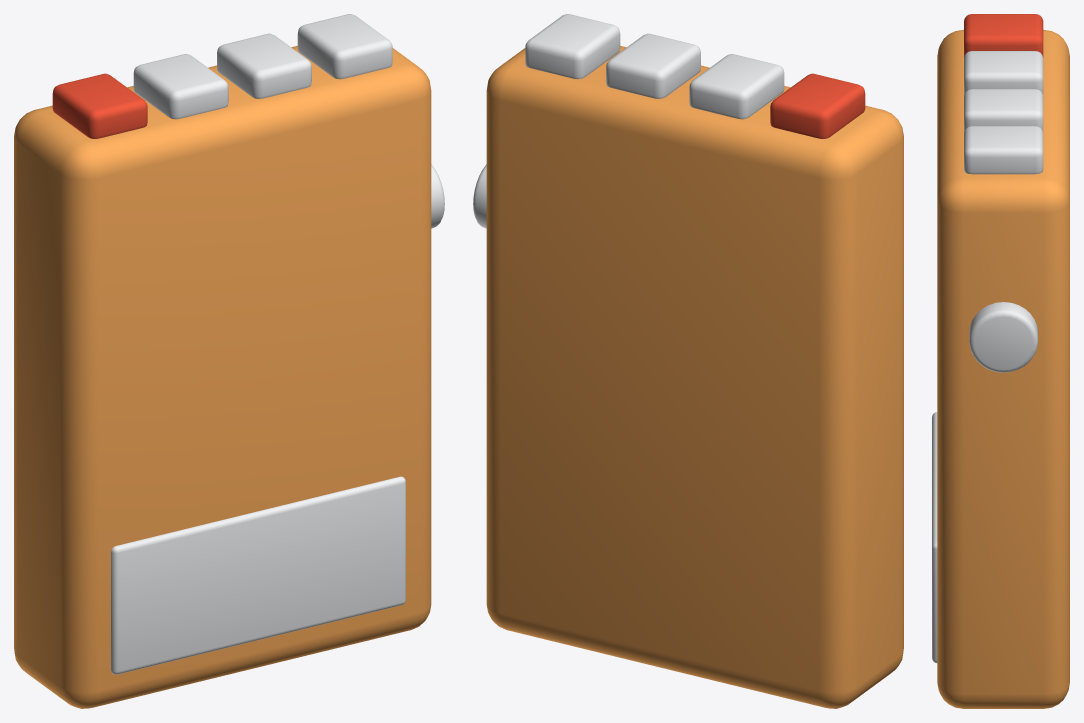
The model's file is life-walkman.glb.
3 views of the same model, side by side, from view 1: azimuth 30°, elevation 25°; view 2: azimuth 150°, elevation 25°; view 3: azimuth 270°, elevation 25° (orthographic). The views are drawn at different scales.
Visible parts, largest first — view 1: Shell, Plate, Key.001, Key, Key.003, Key.002, Volume; view 2: Shell, Key.001, Key, Key.003, Key.002, Volume; view 3: Shell, Volume, Key.003, Key.001, Key, Key.002, Plate.
Part boxes in pixels (x1=…): Shell: x1=14, y1=46, x2=431, y2=708; Plate: x1=111, y1=476, x2=405, y2=674; Key.001: x1=133, y1=54, x2=228, y2=119; Key: x1=52, y1=73, x2=147, y2=138; Key.003: x1=297, y1=14, x2=392, y2=79; Key.002: x1=217, y1=33, x2=311, y2=98; Volume: x1=431, y1=164, x2=444, y2=228; Shell: x1=486, y1=46, x2=903, y2=708; Key.001: x1=689, y1=54, x2=784, y2=119; Key: x1=770, y1=73, x2=865, y2=138; Key.003: x1=525, y1=14, x2=620, y2=79; Key.002: x1=606, y1=33, x2=700, y2=98; Volume: x1=473, y1=164, x2=486, y2=228; Shell: x1=937, y1=29, x2=1069, y2=708; Volume: x1=969, y1=302, x2=1037, y2=372; Key.003: x1=964, y1=126, x2=1043, y2=174; Key.001: x1=964, y1=51, x2=1043, y2=94; Key: x1=964, y1=14, x2=1043, y2=57; Key.002: x1=964, y1=89, x2=1043, y2=132; Plate: x1=932, y1=412, x2=937, y2=663.
Bounding box in the file's own units: 1.59 × 2.3 × 0.52.
